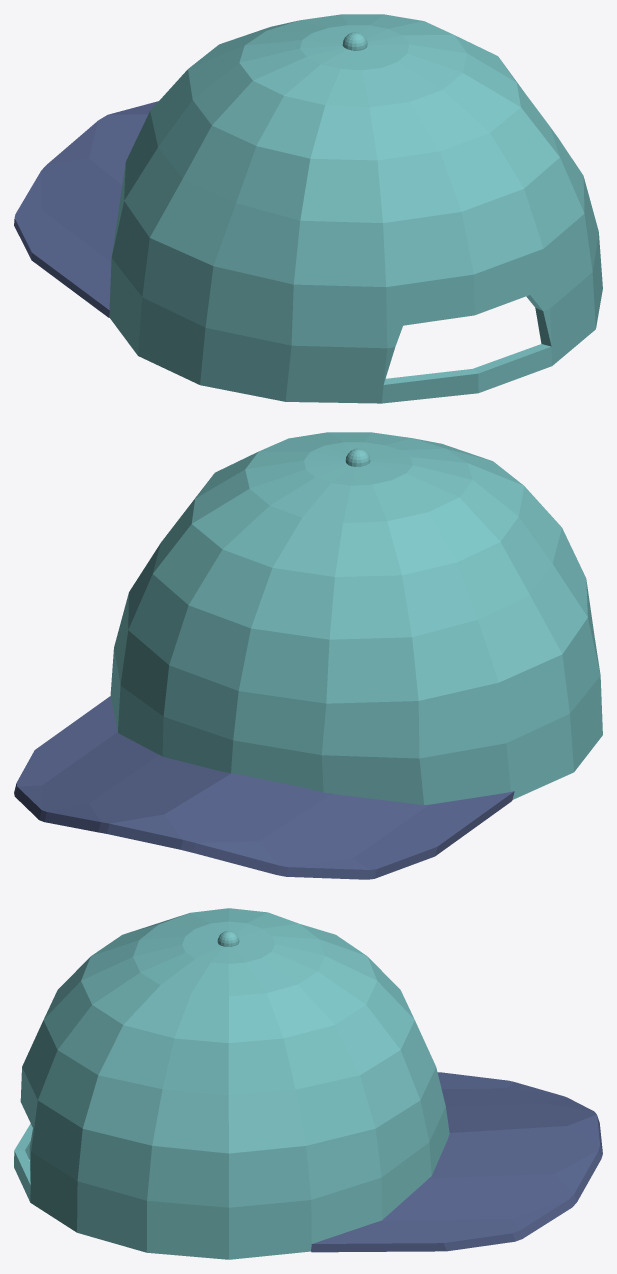
File: Baseballcap.fbx
3 views of the same model, one above another, from view 1: azimuth 30°, elevation 25°; view 2: azimuth 150°, elevation 25°; view 3: azimuth 270°, elevation 25° (orthographic). The views are drawn at different scales.
Parts seen in each view (by area): view 1: Sphere, Sphere.002; view 2: Sphere, Sphere.002; view 3: Sphere, Sphere.002.
Boxes of the visible parts, box(x1,y1,x2,y2) form: Sphere: box(109, 14, 602, 403); Sphere.002: box(14, 101, 158, 317); Sphere: box(110, 432, 602, 804); Sphere.002: box(14, 696, 514, 879); Sphere: box(14, 908, 449, 1259); Sphere.002: box(311, 1072, 602, 1252).
Bounding box in the file's own units: 204 × 122 × 275.
2 materials, 2 textured.
